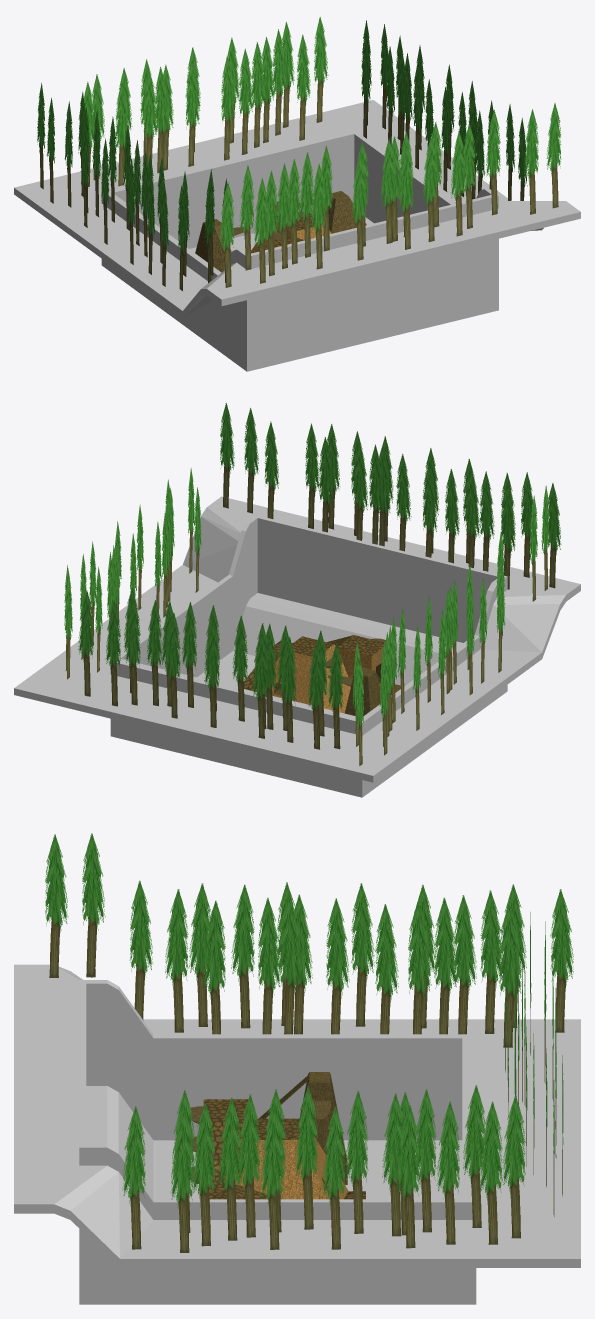
The model's file is BlocagemLevelDesignWithTextures.dae.
3 views of the same model, one above another, from view 1: azimuth 30°, elevation 25°; view 2: azimuth 150°, elevation 25°; view 3: azimuth 270°, elevation 25° (orthographic). The views are drawn at different scales.
Visible parts, largest first — view 1: BordersNFloor, SmallPyramido, Tree.015, Tree.011, Tree.008, Tree.021, Tree.025, Tree.018, Tree.017, Tree.023, Tree.026, Tree.027 (+53 smaller); view 2: BordersNFloor, MainPyramido, Tree.065, Tree.064, Tree.056, Tree.058, Tree.069, Tree.060, Tree.063, Tree.061, Tree.055, Tree.070 (+39 smaller); view 3: BordersNFloor, MainPyramido, Tree.049, Tree.038, Tree.040, Tree, Tree.043, Tree.079, Tree.071, Tree.007, Tree.001, Tree.039 (+31 smaller).
Part boxes in pixels (left/top/right/bottom): BordersNFloor: left=14, top=100, right=580, bottom=371; SmallPyramido: left=274, top=191, right=366, bottom=233; Tree.015: left=485, top=110, right=500, bottom=215; Tree.011: left=310, top=163, right=325, bottom=269; Tree.008: left=380, top=138, right=395, bottom=243; Tree.021: left=351, top=155, right=366, bottom=260; Tree.025: left=254, top=178, right=268, bottom=283; Tree.018: left=524, top=109, right=538, bottom=214; Tree.017: left=546, top=103, right=561, bottom=208; Tree.023: left=239, top=165, right=254, bottom=270; Tree.026: left=219, top=182, right=234, bottom=287; Tree.027: left=422, top=136, right=437, bottom=241; BordersNFloor: left=14, top=496, right=580, bottom=797; MainPyramido: left=243, top=635, right=385, bottom=713; Tree.065: left=78, top=590, right=93, bottom=696; Tree.064: left=204, top=622, right=219, bottom=727; Tree.056: left=125, top=599, right=140, bottom=705; Tree.058: left=252, top=633, right=267, bottom=738; Tree.069: left=232, top=615, right=247, bottom=721; Tree.060: left=328, top=643, right=343, bottom=749; Tree.063: left=146, top=600, right=161, bottom=706; Tree.061: left=181, top=602, right=196, bottom=707; Tree.055: left=165, top=612, right=180, bottom=718; Tree.070: left=281, top=636, right=296, bottom=742; BordersNFloor: left=14, top=964, right=580, bottom=1304; MainPyramido: left=203, top=1099, right=365, bottom=1199; Tree.049: left=231, top=884, right=254, bottom=1028; Tree.038: left=165, top=889, right=188, bottom=1032; Tree.040: left=82, top=833, right=105, bottom=977; Tree: left=345, top=1090, right=368, bottom=1233; Tree.043: left=351, top=883, right=374, bottom=1026; Tree.079: left=479, top=1101, right=502, bottom=1244; Tree.071: left=295, top=1086, right=318, bottom=1229; Tree.007: left=322, top=1106, right=345, bottom=1249; Tree.001: left=436, top=1101, right=459, bottom=1244; Tree.039: left=45, top=834, right=68, bottom=977.
Size of the model in its own units: 143 by 143 by 79.16.
